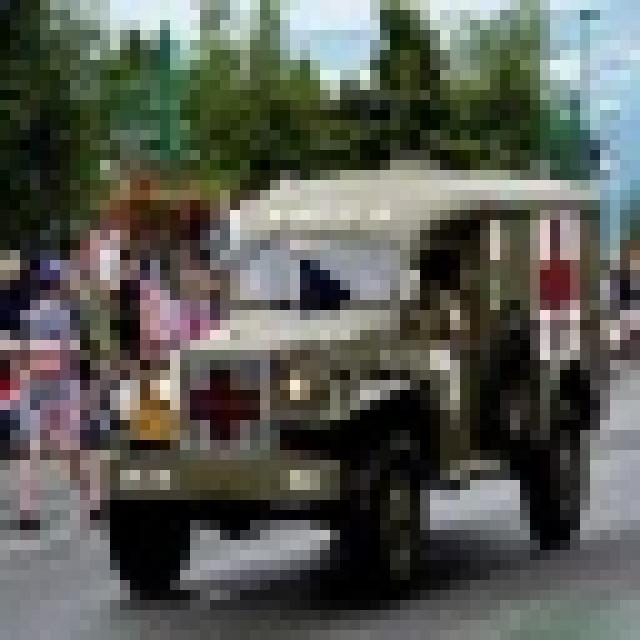Ambulance: (90, 150, 600, 590)
